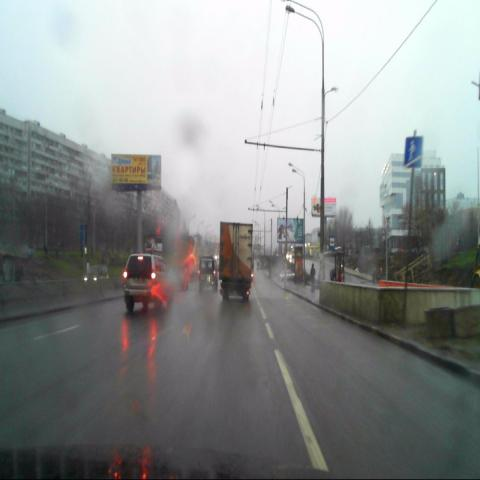6_6: (403, 135, 423, 168)
